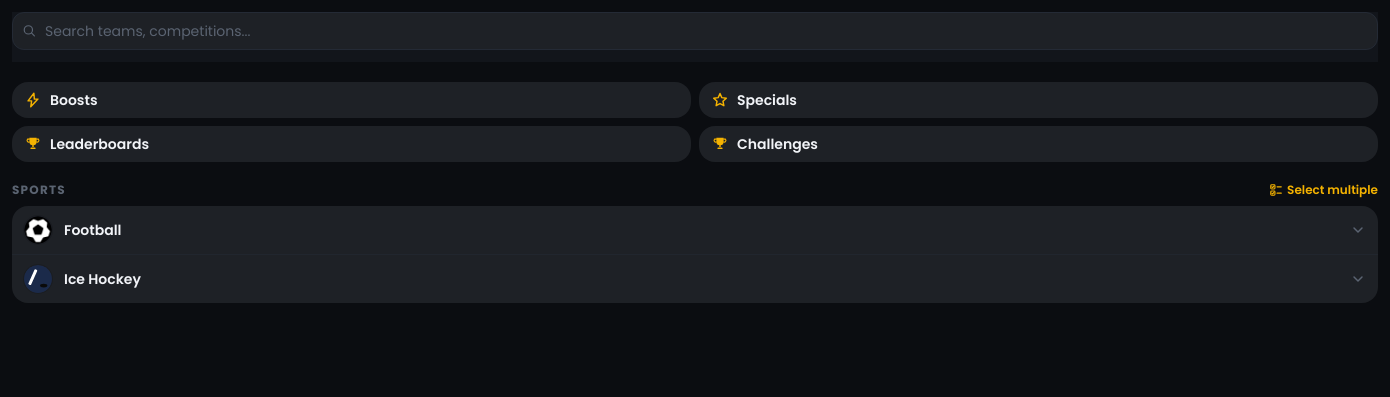
Test: Sidebar › collapses the previously expanded sport when a different one is opened
The image size is (1390, 397).
Click the button "Football": (93, 230) [12, 206, 1378, 254]
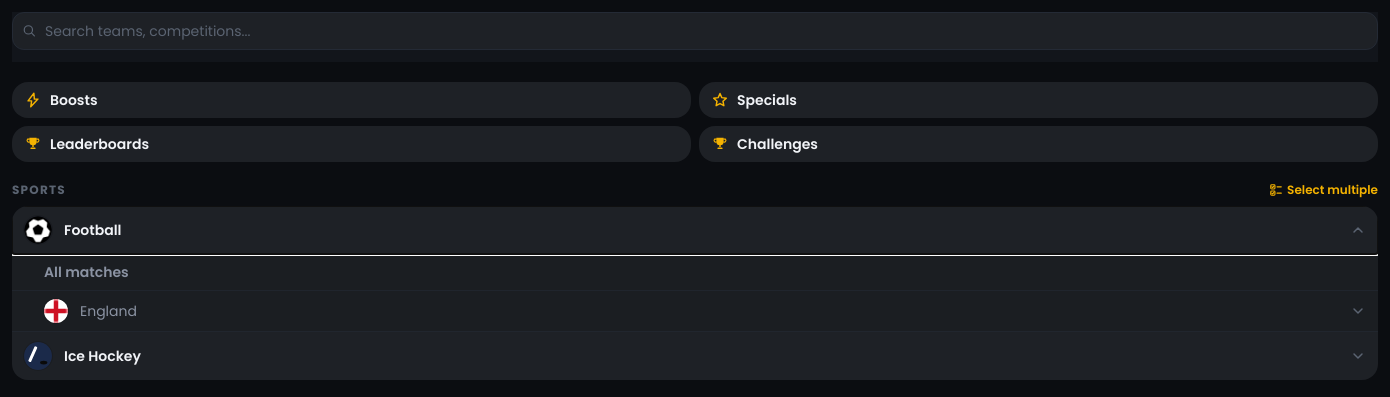
expect the button "England" is shown: met, box [12, 291, 1378, 331]
Click the button "Ice Hockey": (102, 356) [12, 332, 1378, 380]
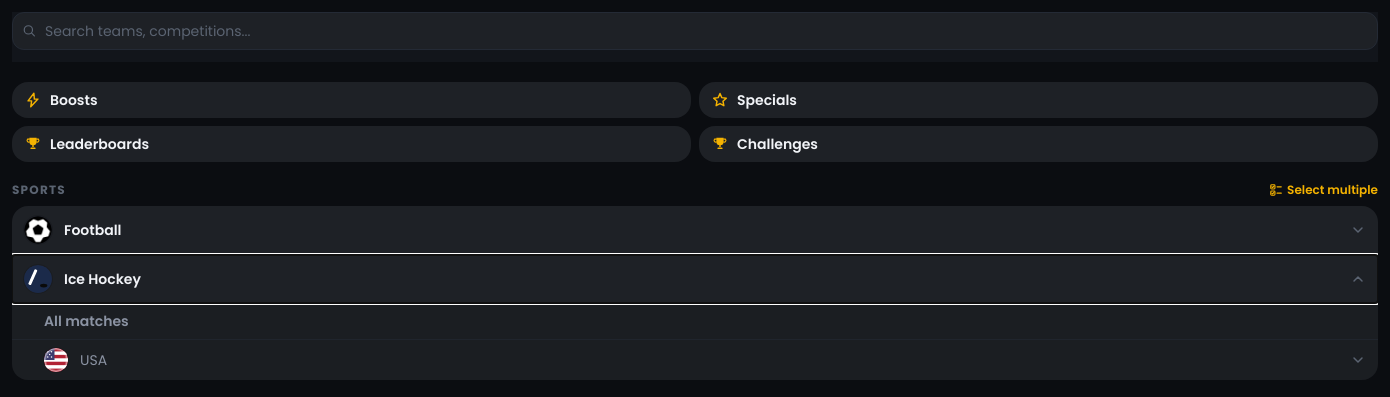
expect the button "England" is gone: met
expect the button "USA" is shown: met, box [12, 340, 1378, 380]
